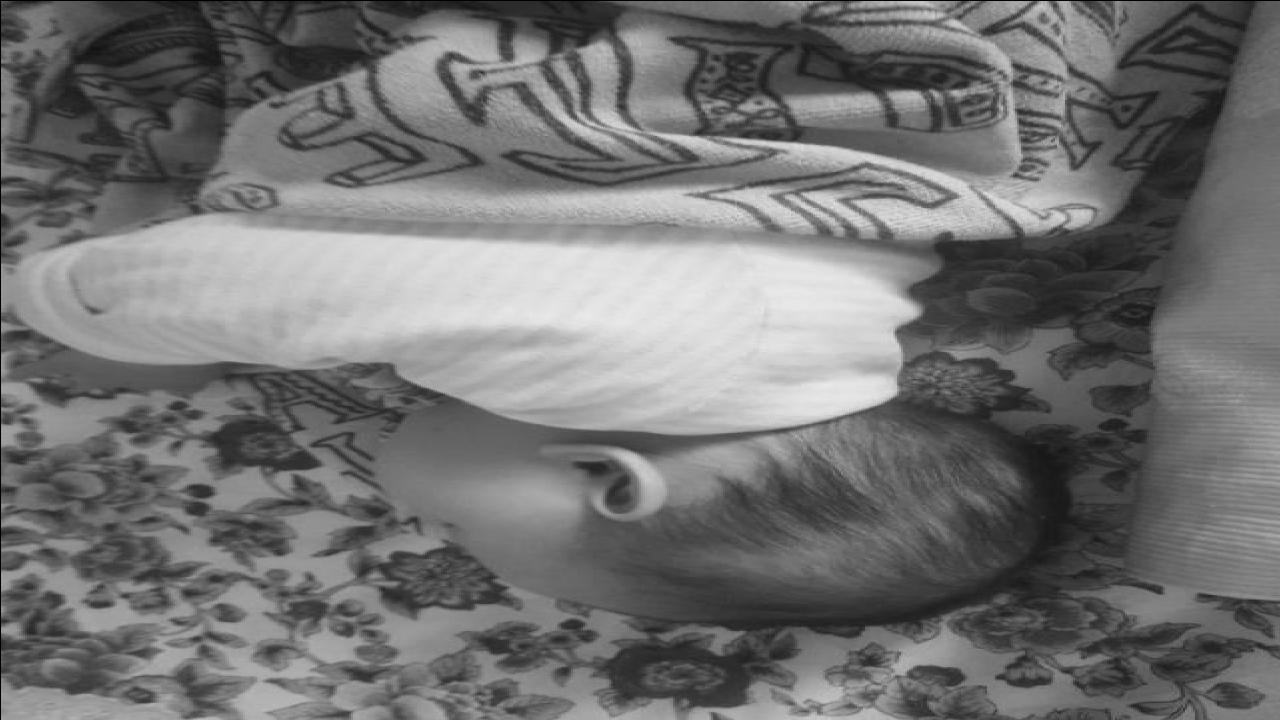hand: (0, 348, 230, 398)
